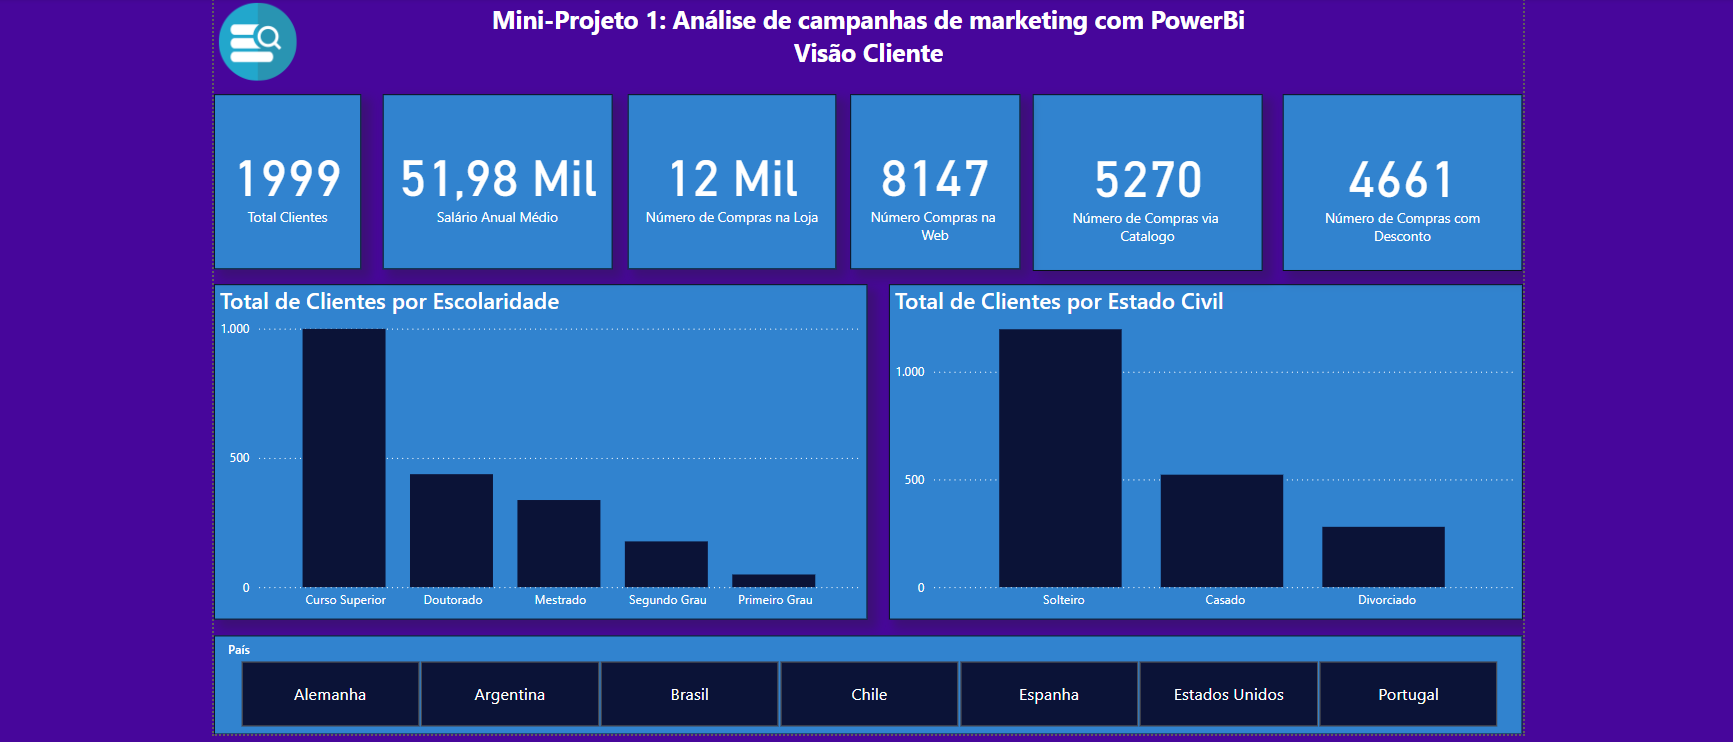

Layout of this report page (visuals, bound fields, positions):
{"tool":"powerbi","page":{"name":"Cliente","canvas":[1280,720],"ordinal":0},"visuals":[{"type":"textbox","box":[0,0,1280.3,106.4],"z":0},{"type":"clusteredColumnChart","title":"Total de Clientes por Escolaridade","fields":{"Y":["CountNonNull(Dados Marketing.ID)"],"Category":["Dados Marketing.Escolaridade"]},"box":[0,280,639.5,327.7],"z":1000},{"type":"clusteredColumnChart","title":"Total de Clientes por Estado Civil","fields":{"Y":["CountNonNull(Dados Marketing.ID)"],"Category":["Dados Marketing.Estado Civil"]},"box":[660.3,280,620,327.7],"z":2000},{"type":"slicer","fields":{"Values":["Dados Marketing.Pais"]},"box":[0,623.6,1280.3,96.6],"z":3000},{"type":"card","fields":{"Values":["Sum(Dados Marketing.Numero de Compras com Desconto)"]},"box":[1045.5,94.2,234.8,172.4],"z":4000},{"type":"card","fields":{"Values":["CountNonNull(Dados Marketing.ID)"]},"box":[0,94.2,144.3,171.2],"z":5000},{"type":"card","fields":{"Values":["Avg(Dados Marketing.Salario Anual)"]},"box":[165.1,94.2,225,171.2],"z":6000},{"type":"card","fields":{"Values":["Sum(Dados Marketing.Numero de Compras na Loja)"]},"box":[404.8,94.2,204.2,171.2],"z":7000},{"type":"card","fields":{"Values":["Sum(Dados Marketing.Numero de Compras via Catalogo)"]},"box":[801,94.2,225,172.4],"z":8000},{"type":"card","fields":{"Values":["Sum(Dados Marketing.Numero de Compras na Web)"]},"box":[622.4,94.2,166.3,171.2],"z":9000},{"type":"image","box":[0,0,85.6,85.6],"z":10000}]}

Visuals, with their boxes on the page's 1280x720 design canvas (x1, y1, x2, y2). These are canvas units, not pixel positions in the 1733x742 screenshot, which may show the page scaled, cropped or inside an application window:
textbox: bbox(0, 0, 1280, 106)
"Total de Clientes por Escolaridade" clusteredColumnChart: bbox(0, 280, 640, 608)
"Total de Clientes por Estado Civil" clusteredColumnChart: bbox(660, 280, 1280, 608)
slicer - Dados Marketing.Pais: bbox(0, 624, 1280, 720)
card - Sum(Dados Marketing.Numero de Compras com Desconto): bbox(1046, 94, 1280, 267)
card - CountNonNull(Dados Marketing.ID): bbox(0, 94, 144, 265)
card - Avg(Dados Marketing.Salario Anual): bbox(165, 94, 390, 265)
card - Sum(Dados Marketing.Numero de Compras na Loja): bbox(405, 94, 609, 265)
card - Sum(Dados Marketing.Numero de Compras via Catalogo): bbox(801, 94, 1026, 267)
card - Sum(Dados Marketing.Numero de Compras na Web): bbox(622, 94, 789, 265)
image: bbox(0, 0, 86, 86)
